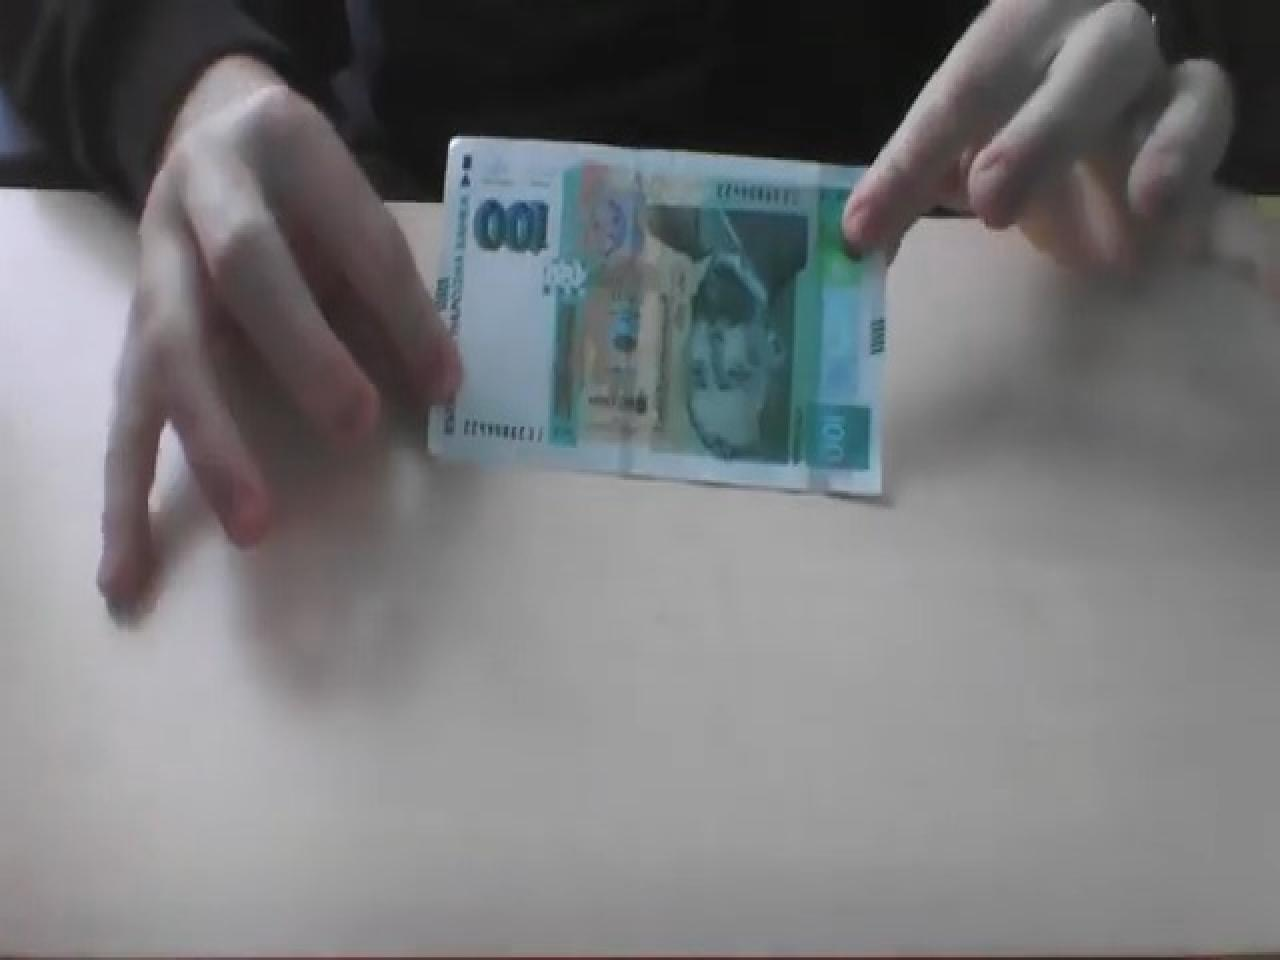100leva: (424, 139, 892, 506)
